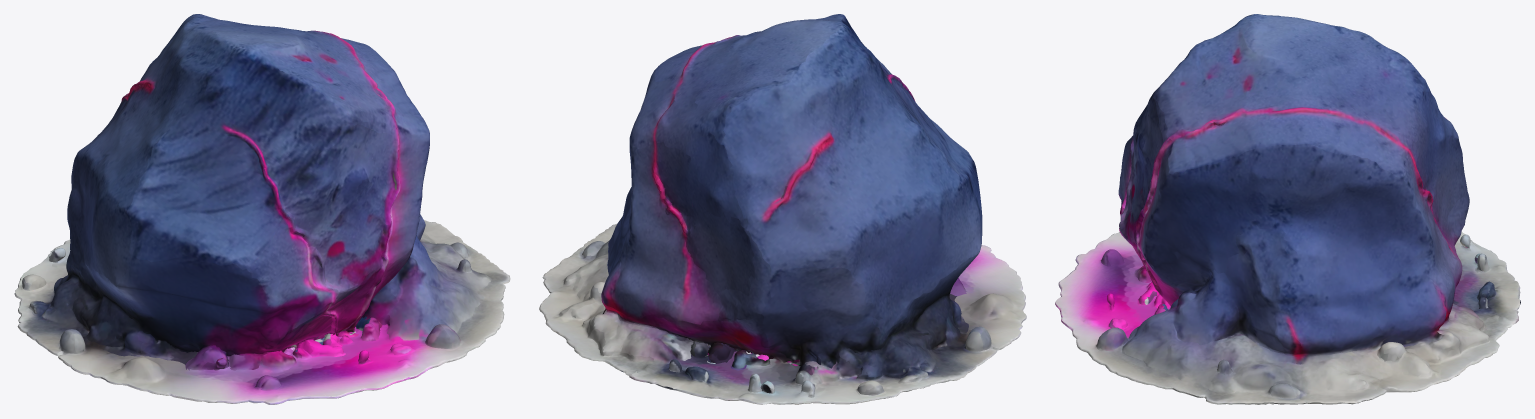
Rendered from shore-stone-5-generated-2026-05-17T20-04-49-387Z.high.glb.
3 views of the same model, side by side, from view 1: azimuth 30°, elevation 25°; view 2: azimuth 150°, elevation 25°; view 3: azimuth 270°, elevation 25° (orthographic). The views are drawn at different scales.
Parts seen in each view (by area): view 1: temp_mesh.ply; view 2: temp_mesh.ply; view 3: temp_mesh.ply.
Boxes of the visible parts, x1,y1,x2,y2 form: temp_mesh.ply: (14,14,510,404); temp_mesh.ply: (539,14,1026,404); temp_mesh.ply: (1055,14,1520,404).
Bounding box in the file's own units: 1.97 × 1.24 × 1.92.
Materials: 1 (1 with a texture image).
